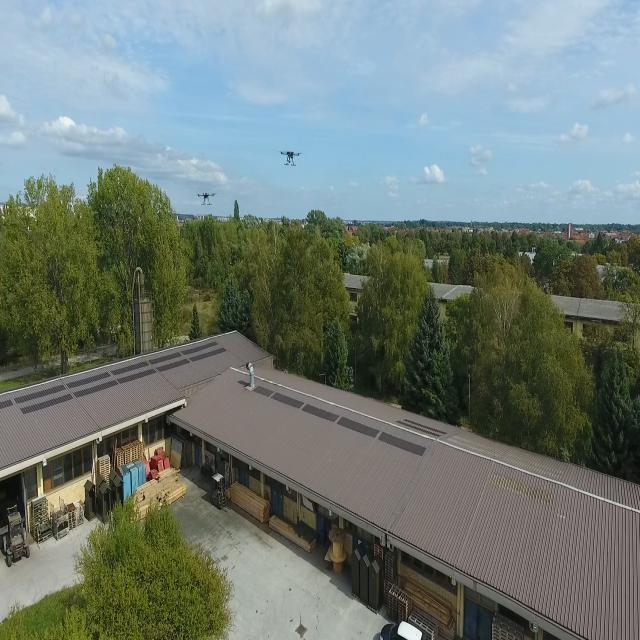UAV: (273, 145, 308, 170), (186, 187, 229, 207)
